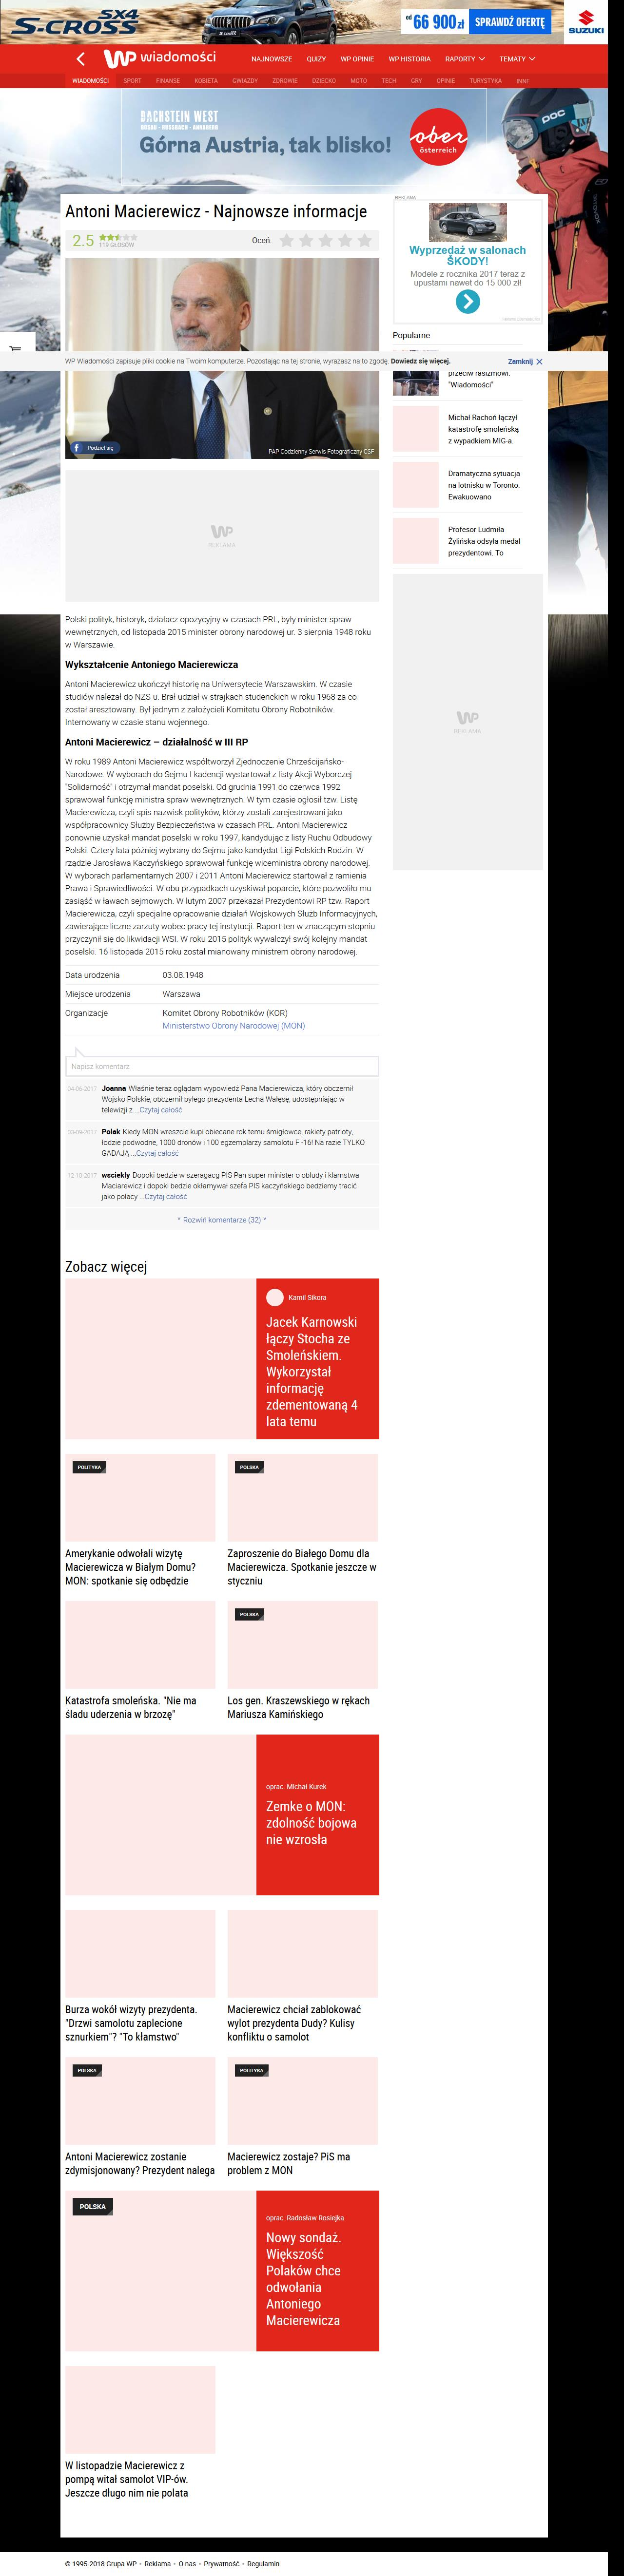title: (64, 202, 368, 223)
